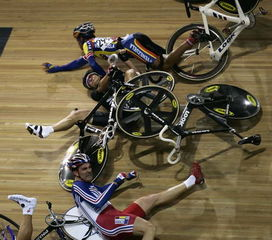fall: (45, 13, 199, 76)
